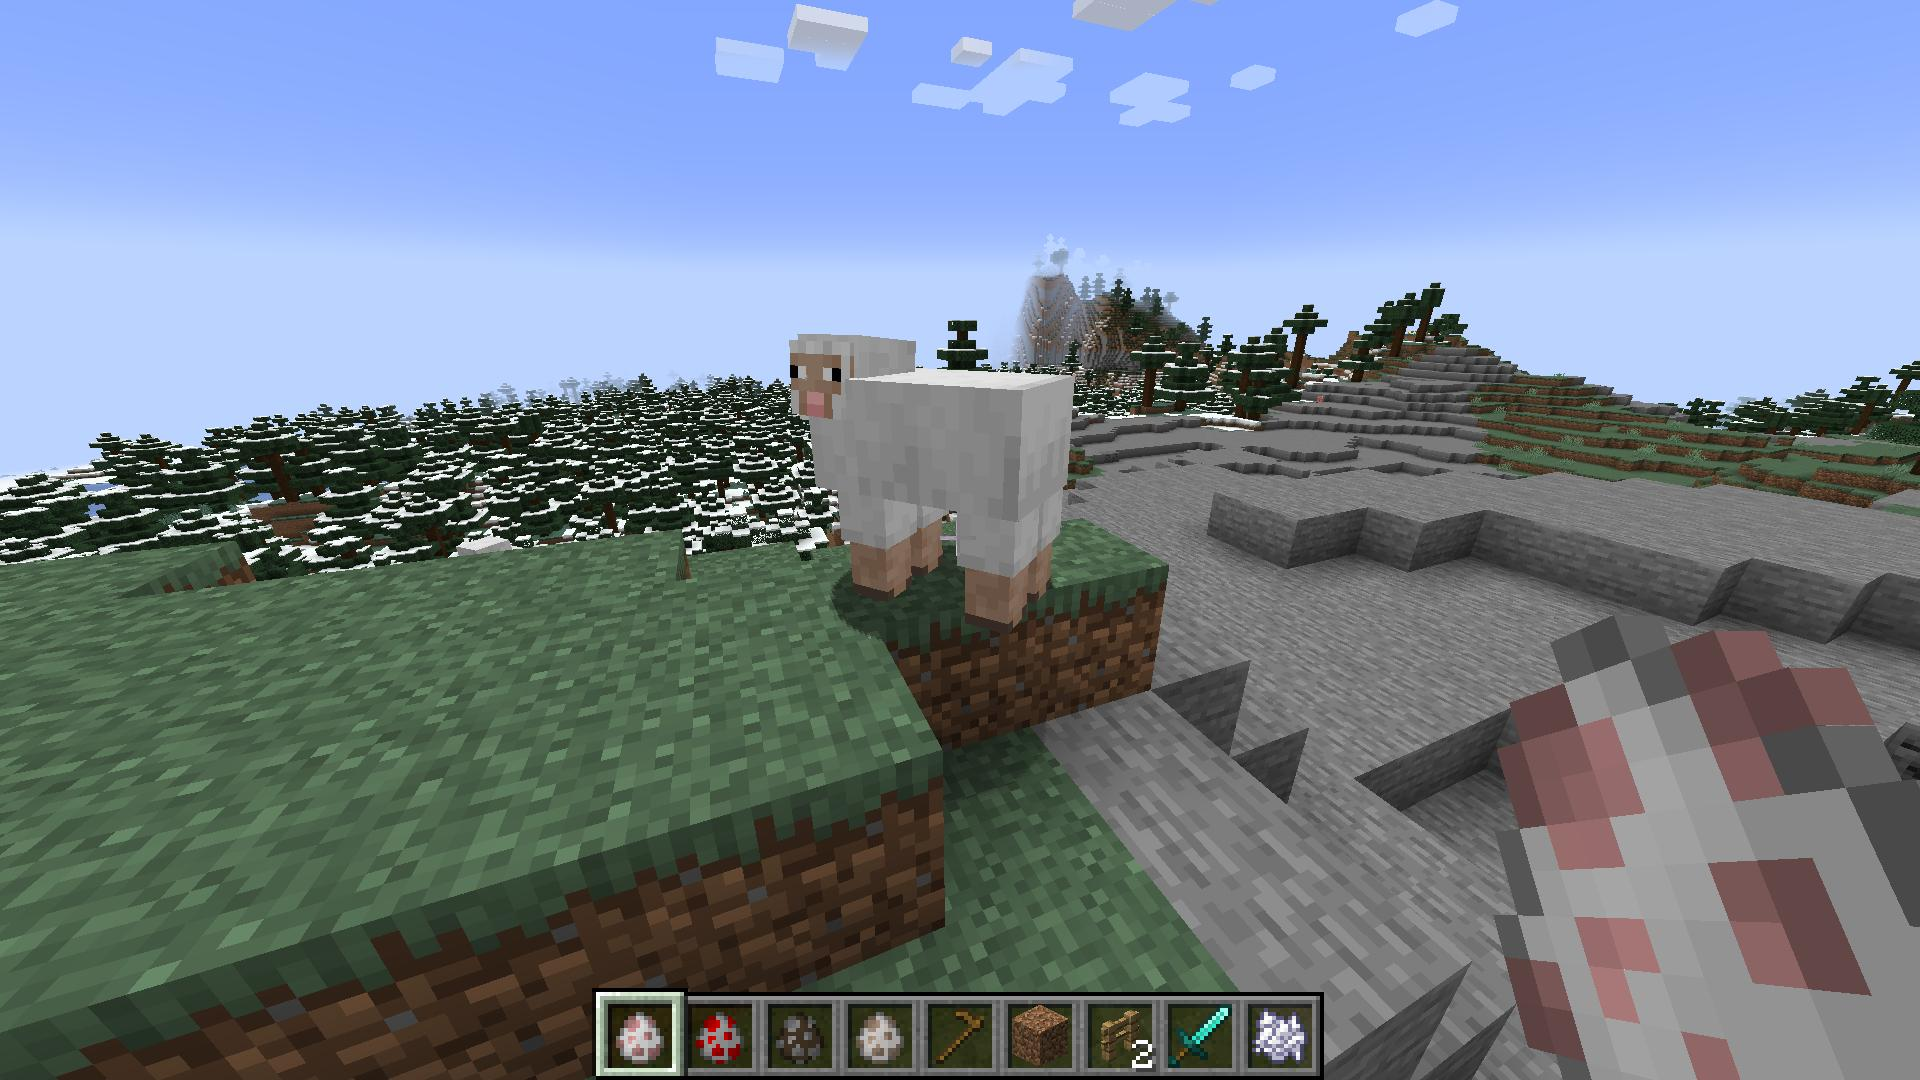sheep: (783, 328, 1083, 638)
